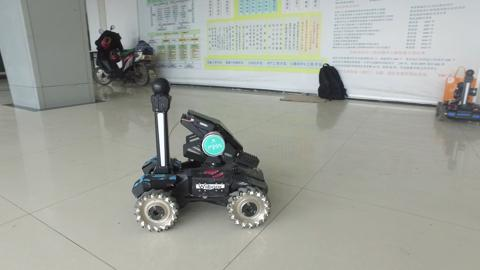bag: (442, 62, 479, 102), (315, 60, 349, 103)
chariot: (130, 76, 270, 233), (433, 68, 480, 126)
